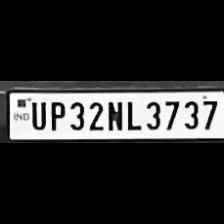2: (86, 98, 104, 132)
3: (141, 97, 161, 130), (180, 97, 198, 130), (67, 99, 85, 131)
7: (200, 97, 218, 131), (162, 98, 178, 130)
L: (124, 97, 140, 130)
N: (104, 98, 124, 132)
P: (46, 99, 66, 131)
U: (27, 98, 46, 130)
